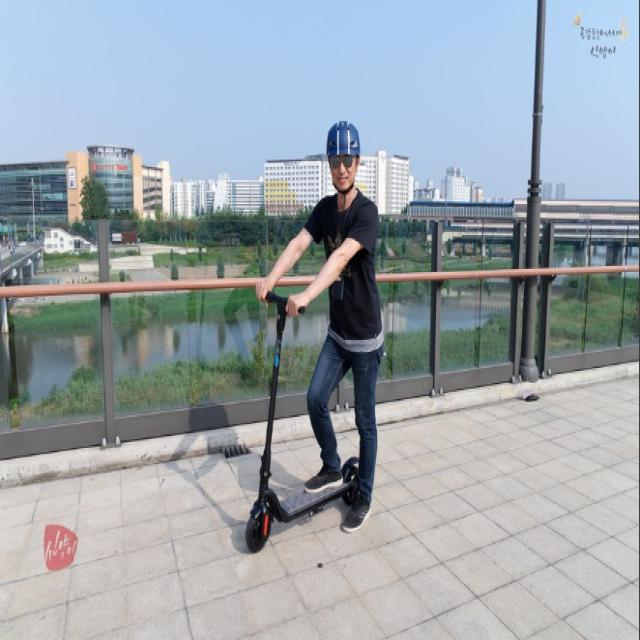helmet: (205, 89, 405, 552)
